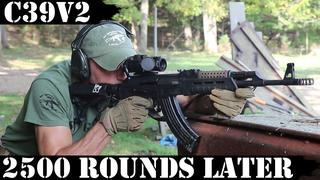ak47: (109, 55, 313, 149)
